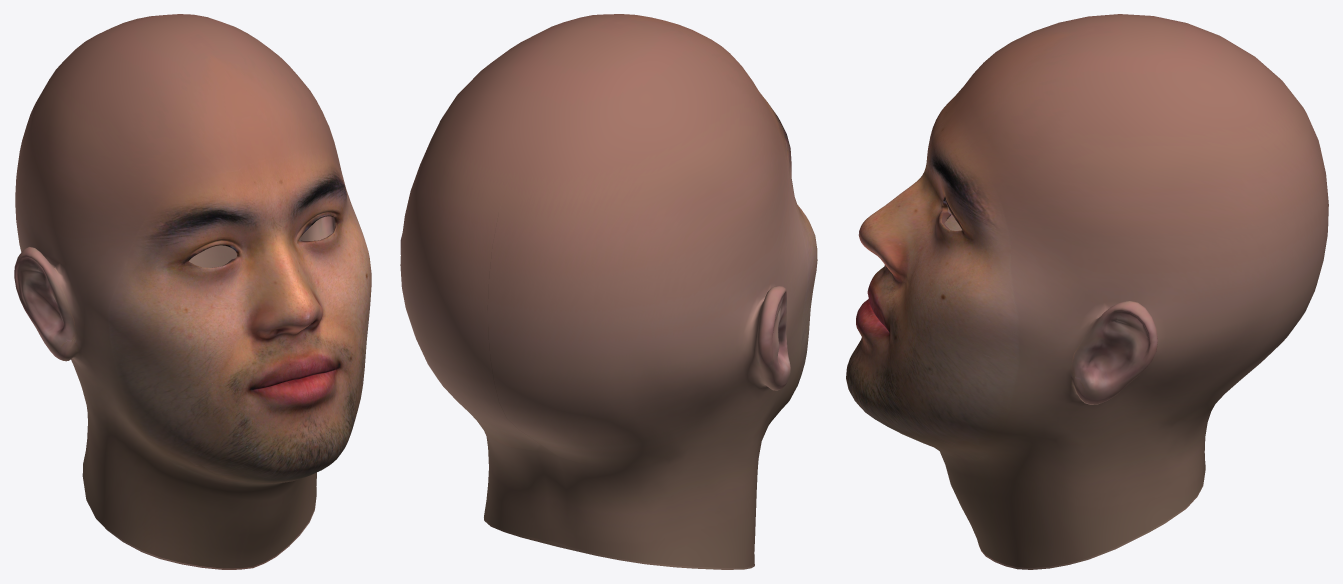
3 renders of one model, left to right at view 1: azimuth 30°, elevation 25°; view 2: azimuth 150°, elevation 25°; view 3: azimuth 270°, elevation 25°, orthographic. The views are drawn at different scales.
Parts seen in each view (by area): view 1: FaceGen; view 2: FaceGen; view 3: FaceGen.
Part boxes in pixels (x1,y1,x2,y2): FaceGen: [14, 14, 371, 569]; FaceGen: [400, 14, 817, 569]; FaceGen: [846, 14, 1328, 569].
Size of the model in its own units: 194 by 282 by 238.
1 material, 1 textured.
